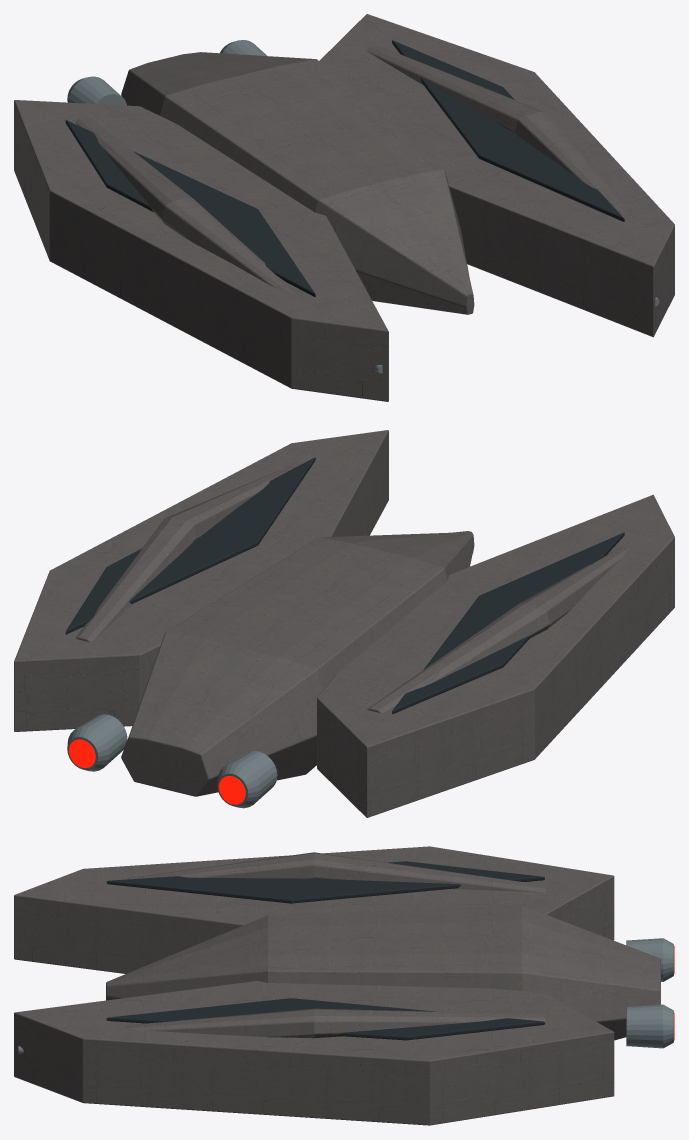
File: space_rug_fighter.glb
3 views of the same model, one above another, from view 1: azimuth 30°, elevation 25°; view 2: azimuth 150°, elevation 25°; view 3: azimuth 270°, elevation 25° (orthographic). The views are drawn at different scales.
Parts seen in each view (by area): view 1: rug_fighter_surface_0, rug_fighter_surface_1, rug_fighter_surface_2; view 2: rug_fighter_surface_0, rug_fighter_surface_1, rug_fighter_surface_2, rug_fighter_surface_3; view 3: rug_fighter_surface_0, rug_fighter_surface_1, rug_fighter_surface_2.
Part boxes in pixels (box(x1,y1,x2,y2)): rug_fighter_surface_0: box(14, 14, 674, 401); rug_fighter_surface_1: box(65, 40, 624, 297); rug_fighter_surface_2: box(67, 40, 659, 373); rug_fighter_surface_0: box(14, 430, 674, 817); rug_fighter_surface_1: box(65, 457, 624, 713); rug_fighter_surface_2: box(67, 714, 277, 808); rug_fighter_surface_3: box(69, 739, 245, 804); rug_fighter_surface_0: box(14, 846, 660, 1125); rug_fighter_surface_1: box(106, 861, 544, 1040); rug_fighter_surface_2: box(18, 938, 673, 1053).
Size of the model in its own units: 22 by 4.9 by 28.58.
Materials: 5 (1 with a texture image).
